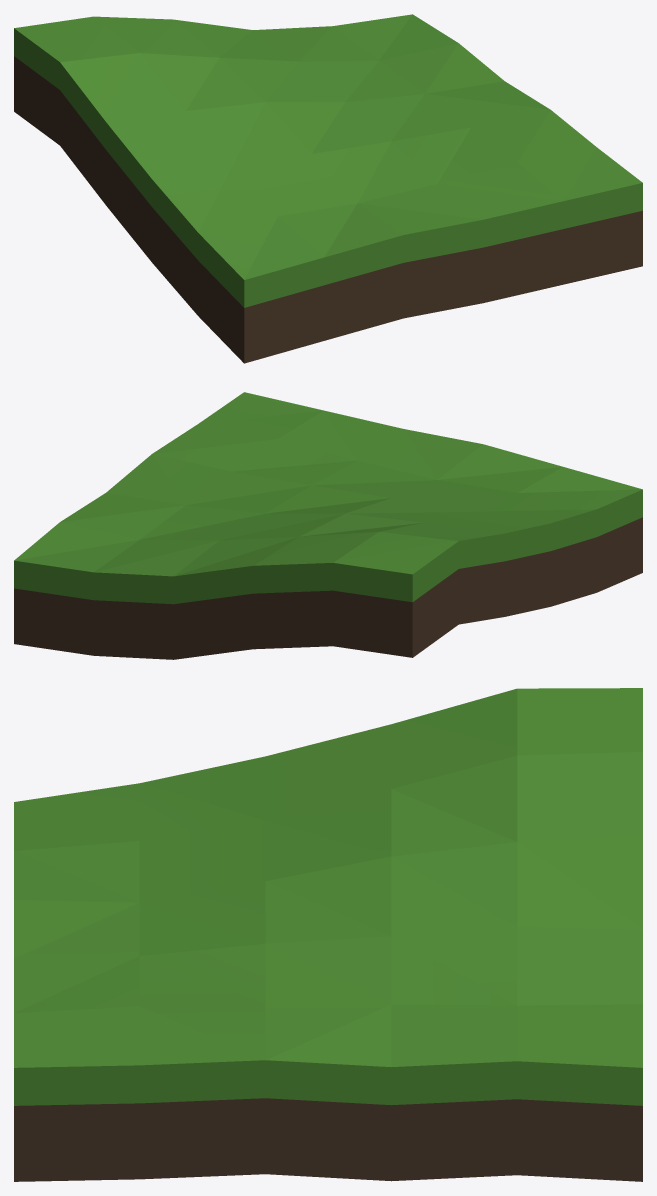
The model's file is terrains_terrain-world-hill3.fbx.
3 views of the same model, one above another, from view 1: azimuth 30°, elevation 25°; view 2: azimuth 150°, elevation 25°; view 3: azimuth 270°, elevation 25° (orthographic). The views are drawn at different scales.
Visible parts, largest first — view 1: terrains_terrain_world_hill3; view 2: terrains_terrain_world_hill3; view 3: terrains_terrain_world_hill3.
Boxes of the visible parts, x1,y1,x2,y2 form: terrains_terrain_world_hill3: [14, 14, 642, 363]; terrains_terrain_world_hill3: [14, 392, 642, 659]; terrains_terrain_world_hill3: [14, 688, 642, 1181].
Bounding box in the file's own units: 200 × 80 × 200.
